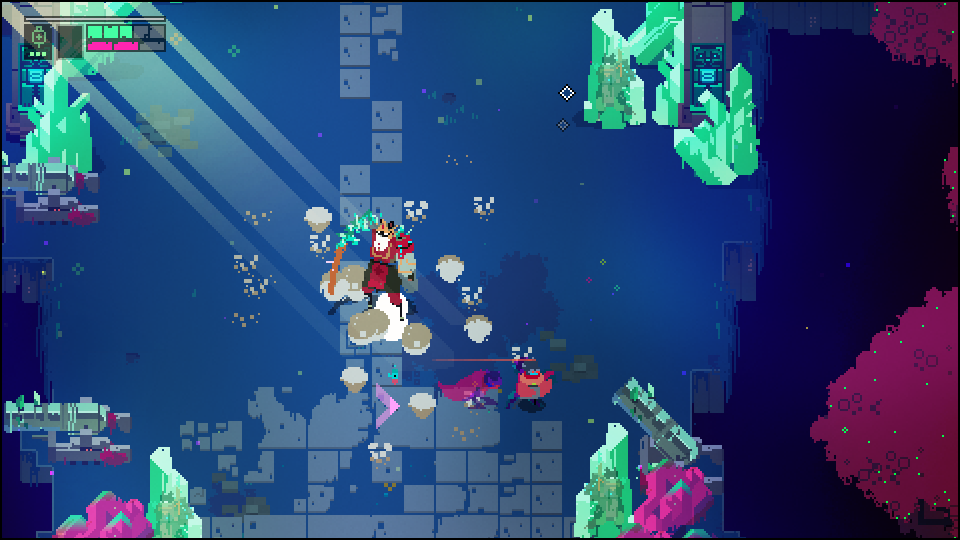hanged_man: (327, 216, 418, 317)
player: (518, 364, 546, 411)
